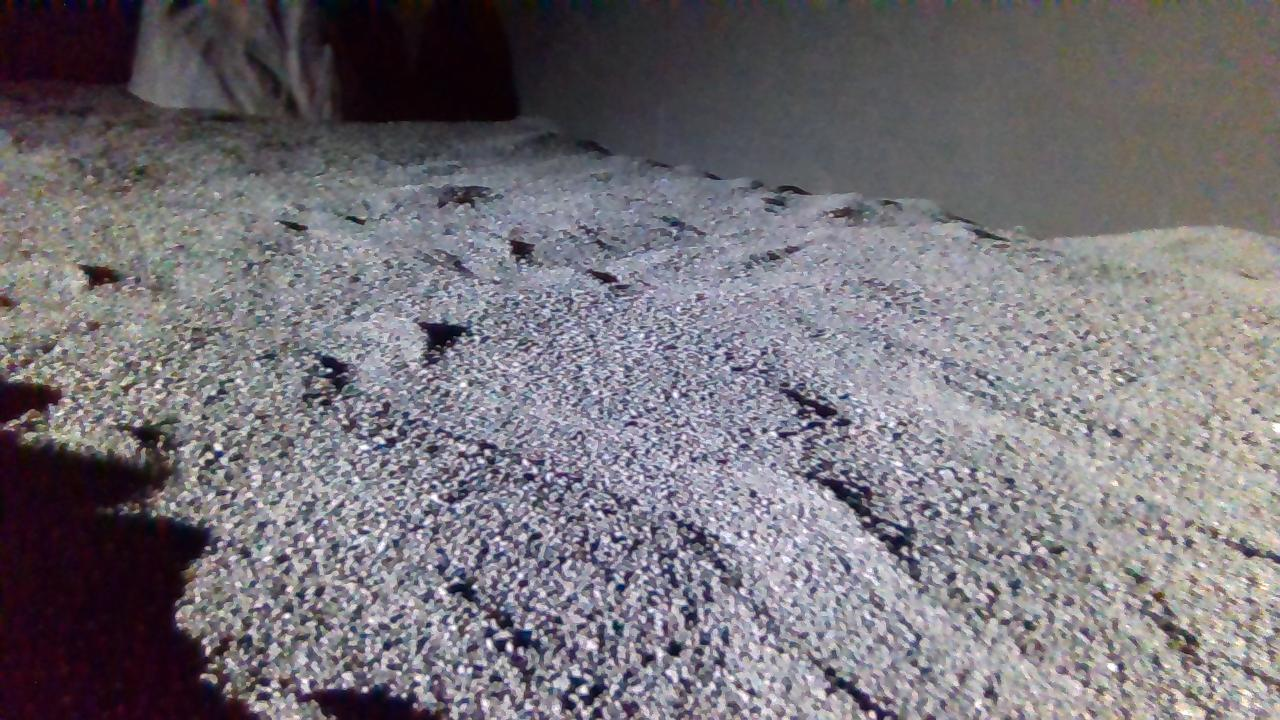rock: (127, 2, 332, 118)
